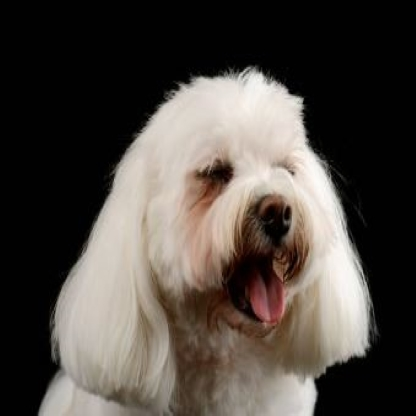maltese: (38, 57, 381, 407)
